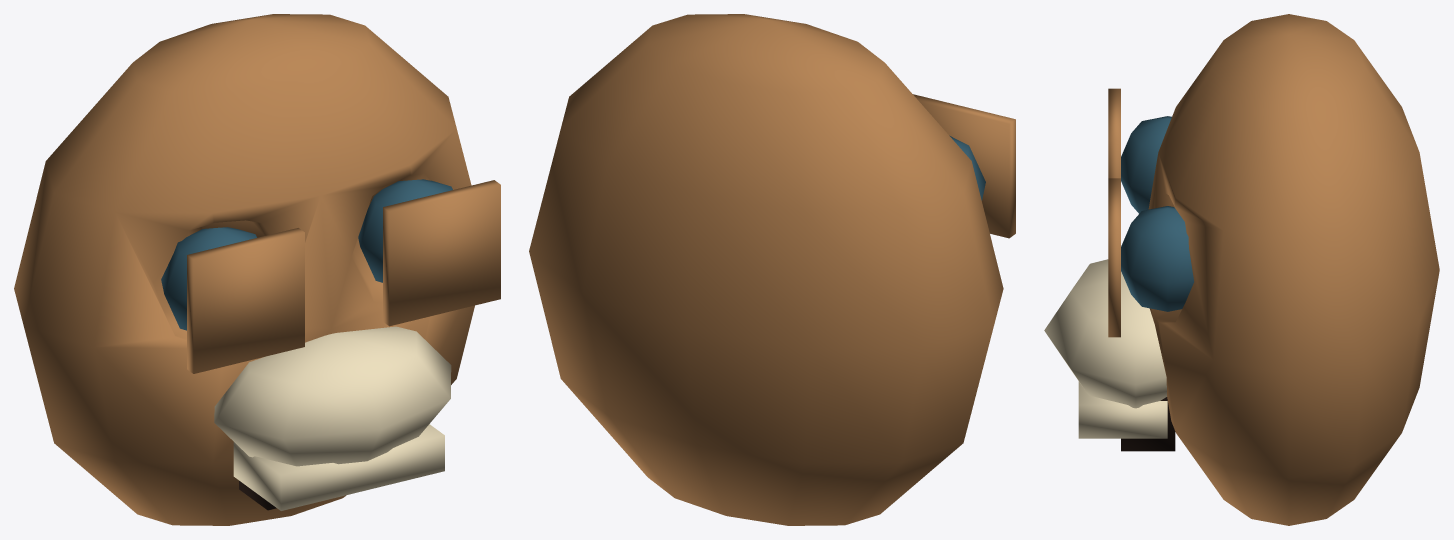
File: blink.glb
3 views of the same model, side by side, from view 1: azimuth 30°, elevation 25°; view 2: azimuth 150°, elevation 25°; view 3: azimuth 270°, elevation 25° (orthographic). The views are drawn at different scales.
Visible parts, largest first — view 1: sample_head, sample_upper_muzzle, sample_lid_R, sample_lid_L, sample_lower_jaw, sample_eye_L, sample_eye_R; view 2: sample_head, sample_lid_L; view 3: sample_head, sample_upper_muzzle, sample_eye_R, sample_lower_jaw, sample_eye_L, sample_lid_R, sample_lid_L, sample_mouth_cavity.
Part boxes in pixels (x1,y1,x2,y2): sample_head: [14, 14, 474, 525]; sample_upper_muzzle: [214, 326, 451, 466]; sample_lid_R: [383, 180, 500, 326]; sample_lid_L: [187, 228, 304, 373]; sample_lower_jaw: [233, 424, 444, 510]; sample_eye_L: [161, 227, 256, 330]; sample_eye_R: [358, 179, 452, 282]; sample_head: [529, 14, 1003, 525]; sample_lid_L: [913, 94, 1015, 238]; sample_head: [1148, 14, 1439, 525]; sample_upper_muzzle: [1044, 259, 1166, 408]; sample_eye_R: [1121, 206, 1194, 311]; sample_lower_jaw: [1078, 381, 1167, 438]; sample_eye_L: [1121, 116, 1171, 213]; sample_lid_R: [1108, 178, 1120, 337]; sample_lid_L: [1108, 88, 1120, 178]; sample_mouth_cavity: [1121, 397, 1175, 451].
Bounding box in the file's own units: 2 × 2.1 × 1.6.
